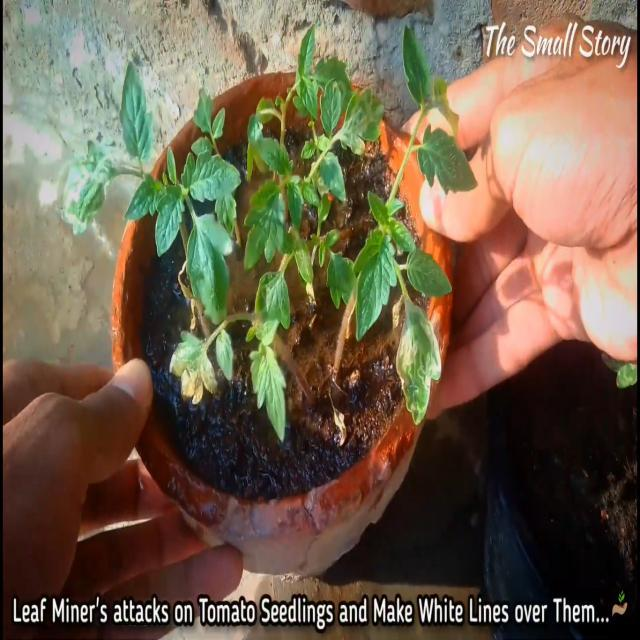Tomato healthy leaf: (352, 229, 397, 343), (417, 121, 479, 196), (118, 61, 156, 165), (190, 150, 242, 203), (406, 248, 454, 302), (402, 22, 432, 106), (153, 181, 185, 259)
Tomato target spot leaf: (396, 304, 442, 430), (60, 139, 114, 239), (342, 88, 386, 154)
